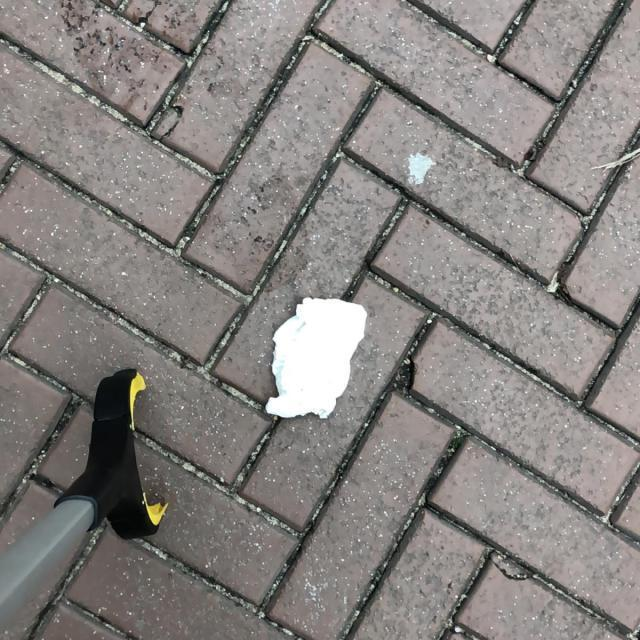Paper: (265, 296, 369, 421)
